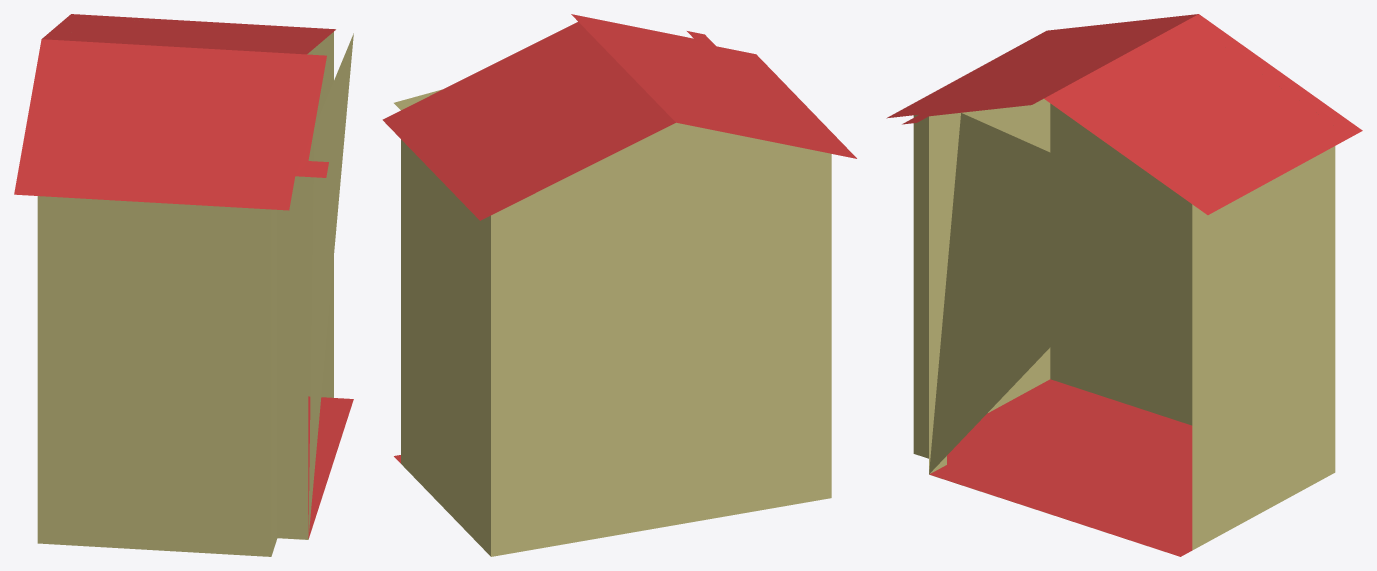
The picture shows the model from 3 angles, left to right: view 1: azimuth 30°, elevation 25°; view 2: azimuth 150°, elevation 25°; view 3: azimuth 270°, elevation 25°; orthographic projection. The views are drawn at different scales.
Size of the model in its own units: 11.39 by 12.12 by 11.31.
